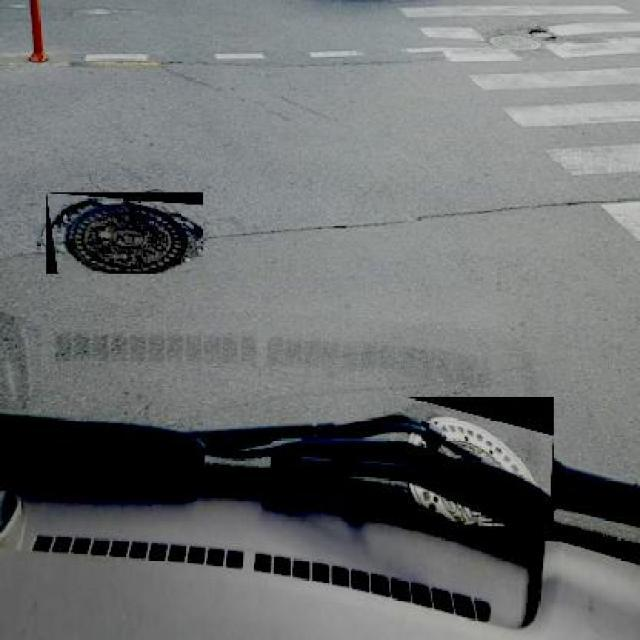Manhole: (408, 397, 554, 526), (46, 192, 203, 274), (490, 34, 541, 52)
Pothole: (529, 28, 556, 40)
